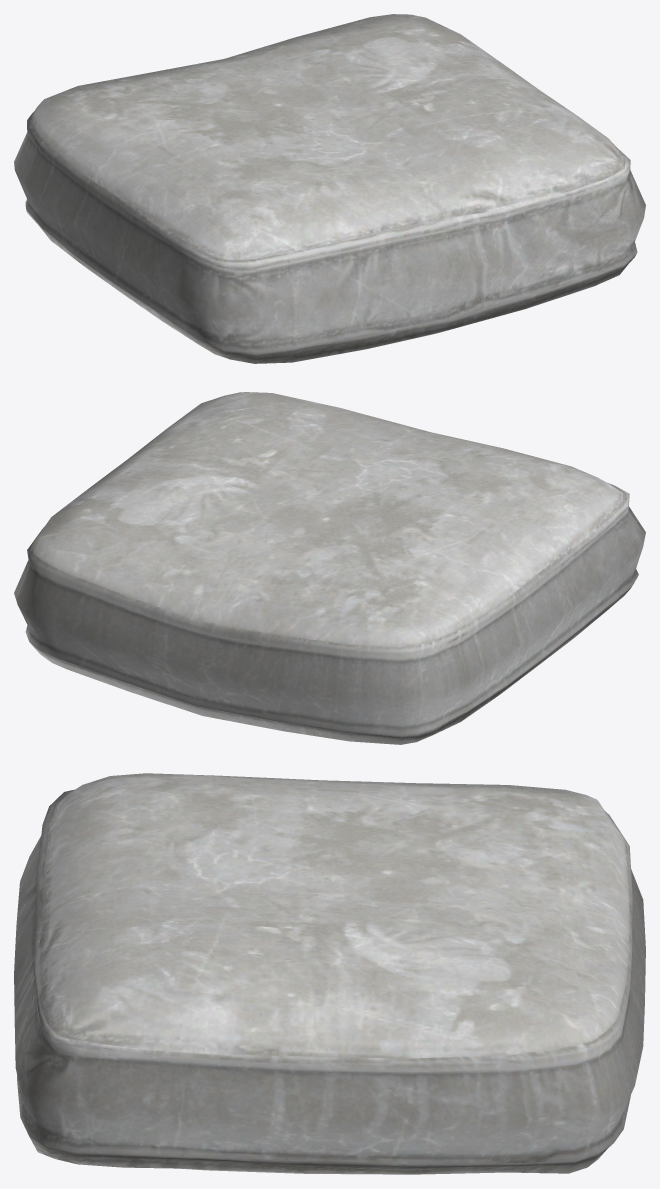
File: couch_chair_cushion_1.gltf
3 renders of one model, top to bottom at view 1: azimuth 30°, elevation 25°; view 2: azimuth 150°, elevation 25°; view 3: azimuth 270°, elevation 25°, orthographic. The views are drawn at different scales.
Parts seen in each view (by area): view 1: couch_chair_cushion_1.vmdl_c.couch_cushion_chair; view 2: couch_chair_cushion_1.vmdl_c.couch_cushion_chair; view 3: couch_chair_cushion_1.vmdl_c.couch_cushion_chair.
Boxes of the visible parts, <box> form: couch_chair_cushion_1.vmdl_c.couch_cushion_chair: <box>14,14,645,363</box>; couch_chair_cushion_1.vmdl_c.couch_cushion_chair: <box>14,392,645,744</box>; couch_chair_cushion_1.vmdl_c.couch_cushion_chair: <box>14,773,645,1174</box>.
Bounding box in the file's own units: 0.8346 × 0.2941 × 0.7954.
1 material, 1 textured.
